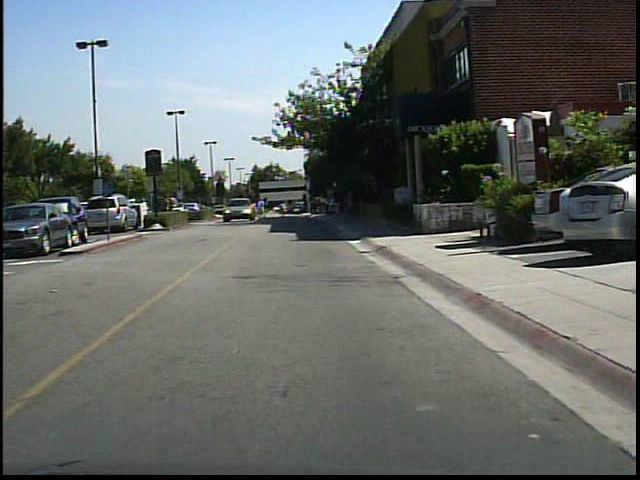person: (156, 191, 172, 224), (254, 194, 268, 222)
